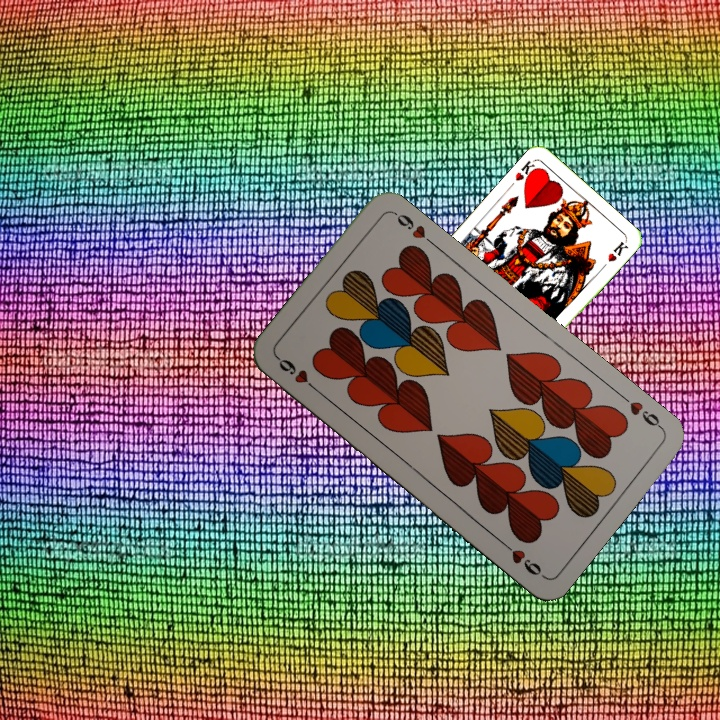H9: (273, 353, 322, 396), (616, 390, 665, 432)
HK: (511, 156, 541, 187)
